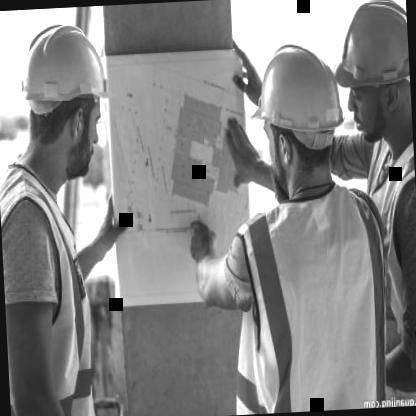helmet: (3, 5, 120, 187), (244, 25, 348, 206), (323, 0, 413, 158)
